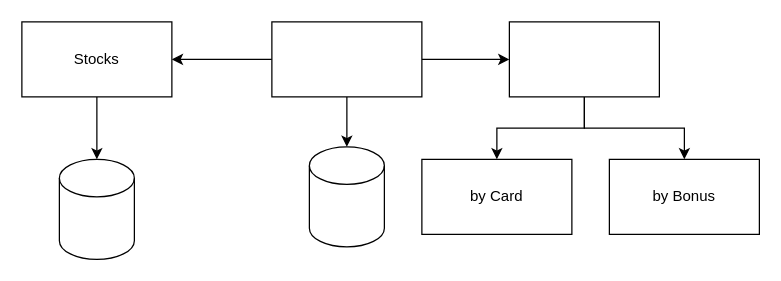
Some shapes in this 781 by 281 pixel diagram are drawn without their labels. Each missing label, with the box of its shape:
Orders: (271, 21, 422, 97)
Payment: (508, 21, 659, 97)
